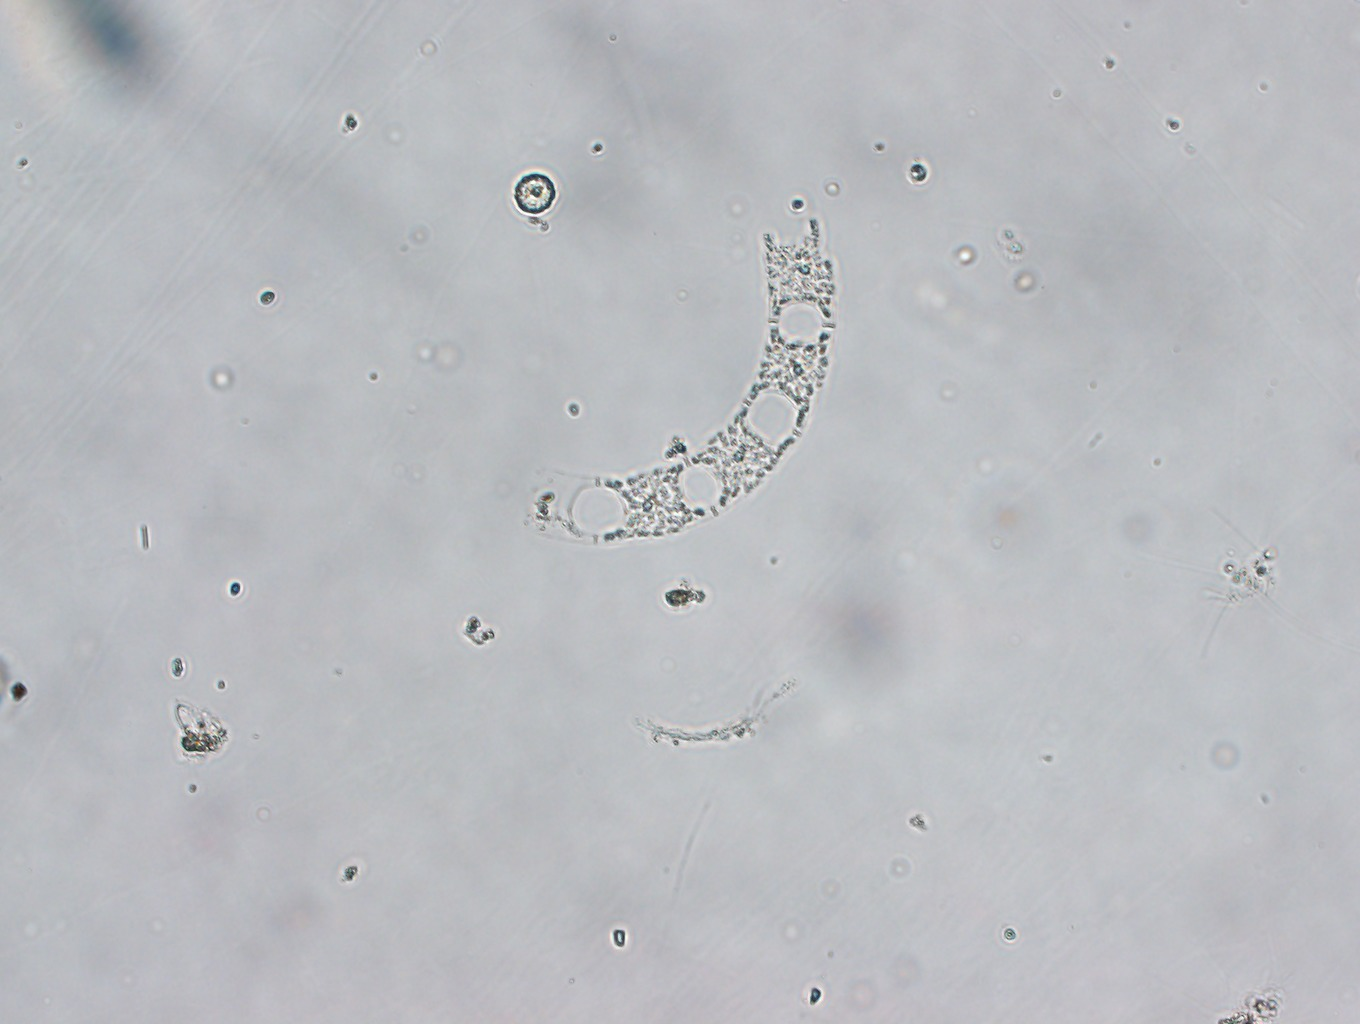eucampia: (517, 196, 843, 558)
